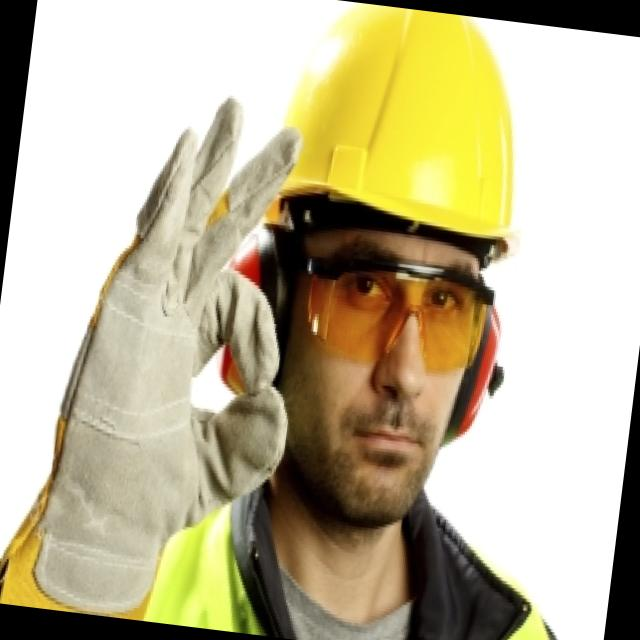goggles: (255, 226, 514, 406)
helmet: (259, 0, 568, 273)
vest: (164, 474, 590, 640)
